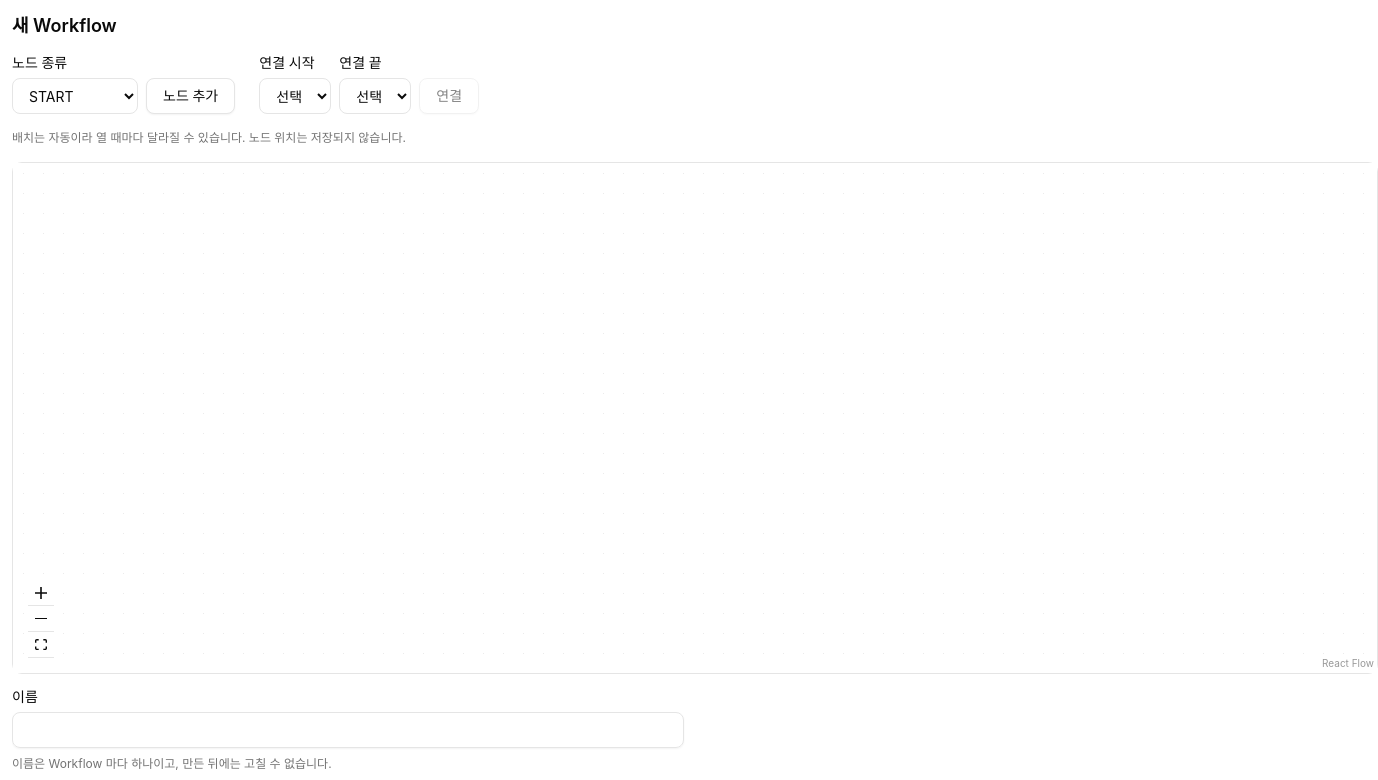
it: WorkflowEditor - 그리기 (spec 0007 R-3·D-9; DESIGN 5·6절) › 종류 선택지는 NodeKind 열셋이고, 추가하면 종류 이름과 id 가 있는 카드가 생긴다
Select "AGENT" in the dropdown labelled "노드 종류" at (75, 96), box [12,78,138,114]
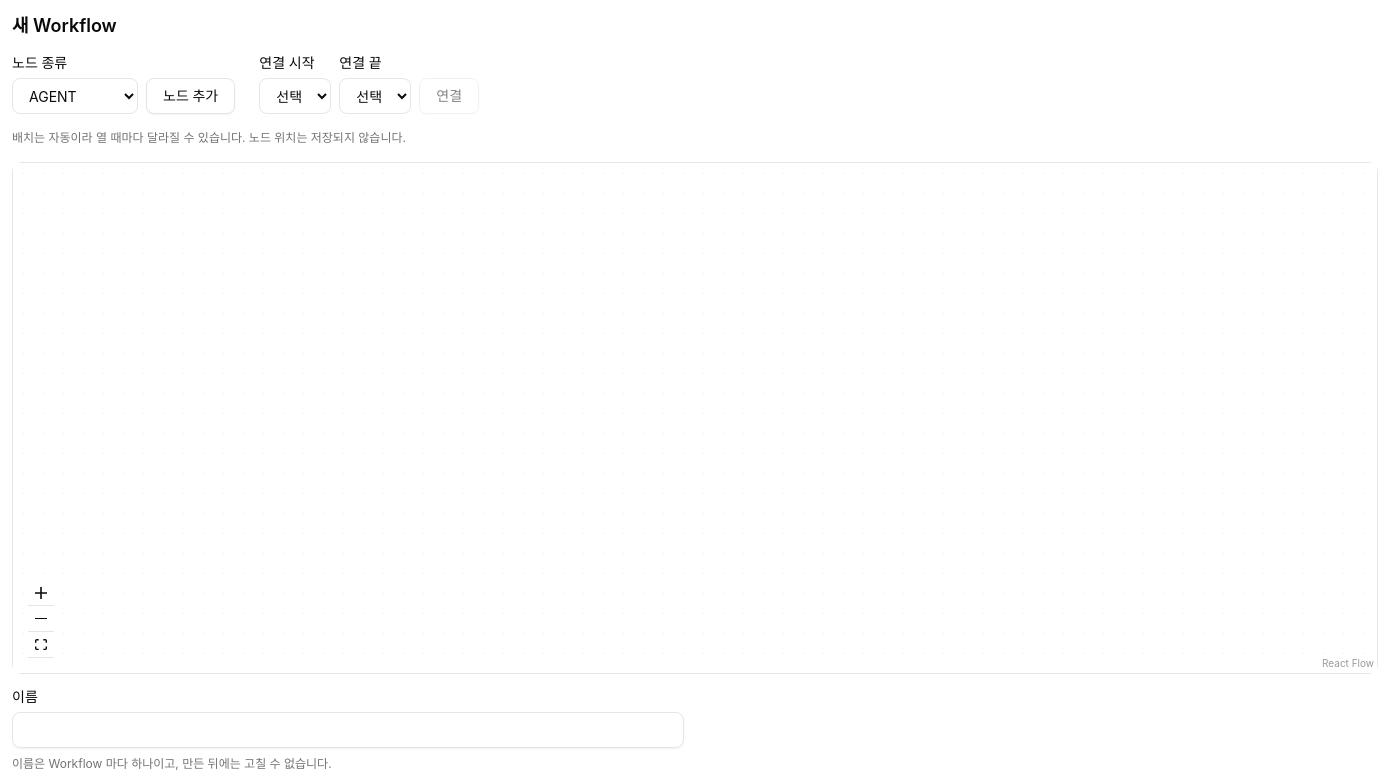
Click the button "노드 추가" at (191, 96), box [146,78,235,114]
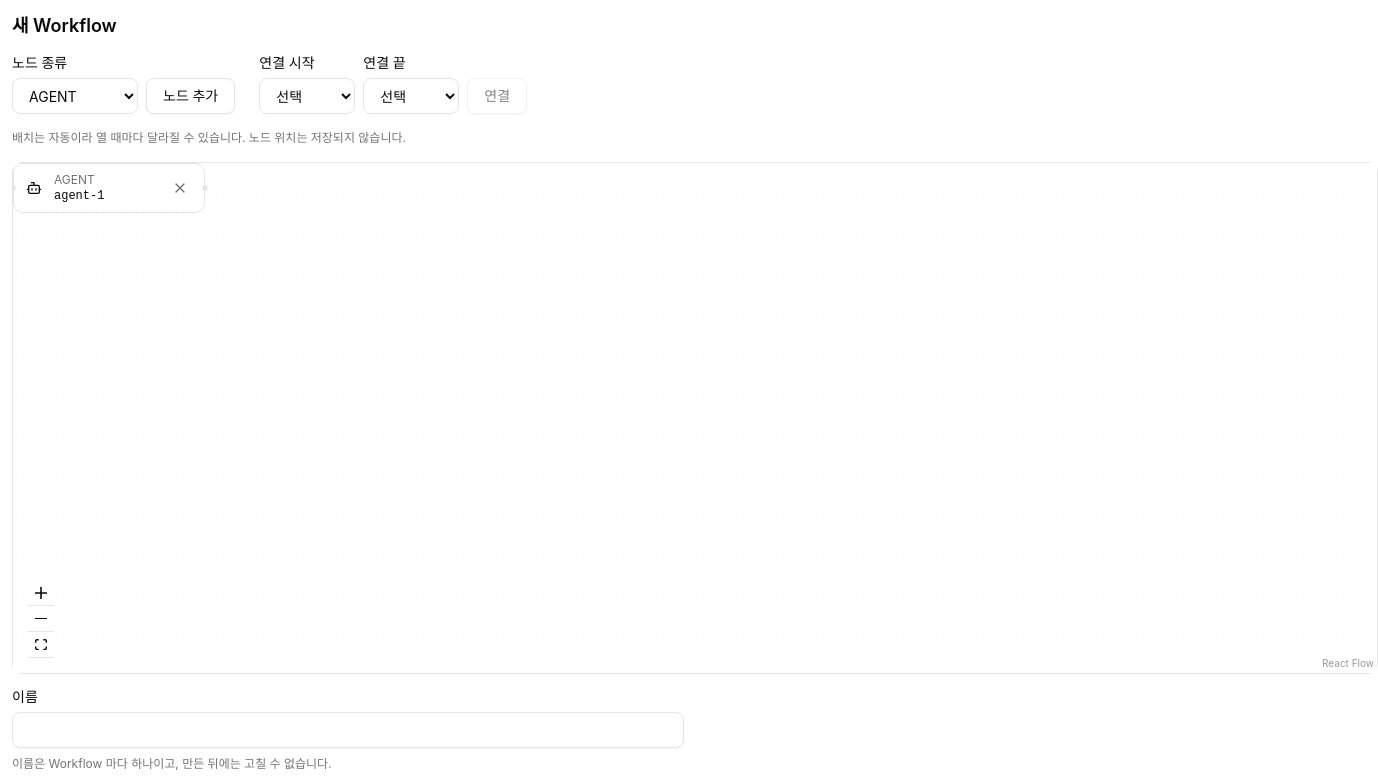
expect the element showing "AGENT agent-1" is shown: met, box [13,163,205,213]
